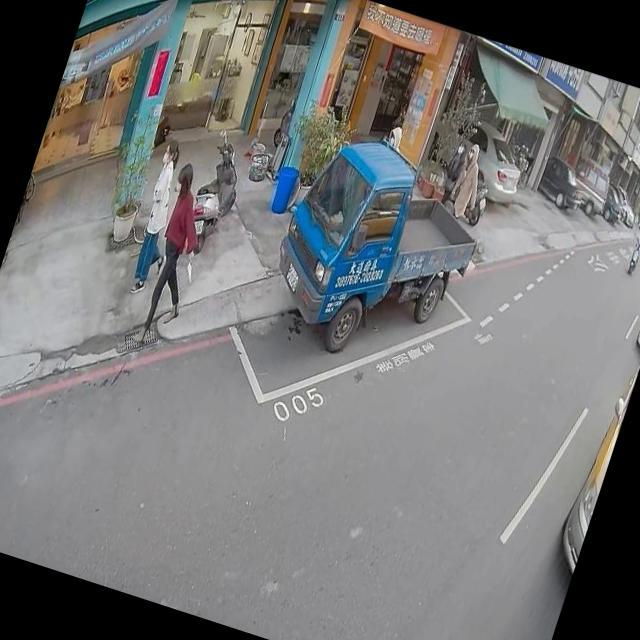person: (126, 160, 228, 350), (118, 147, 196, 303), (445, 142, 492, 225), (434, 136, 474, 209), (382, 114, 410, 154), (635, 229, 640, 248)
